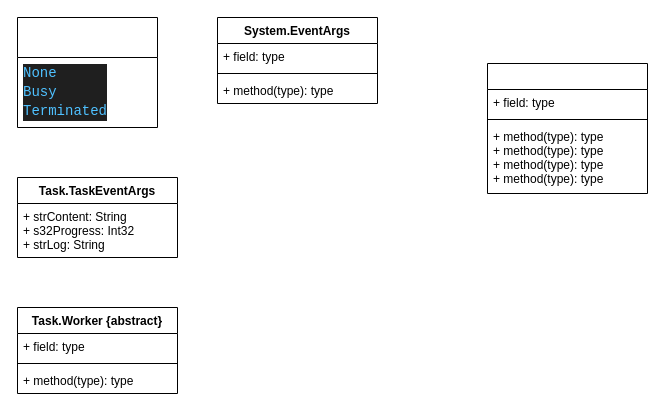
Image size: 665x414. Some labels were removed from this diagram. The box of each missing label's shape, as (x1, y1, x2, y2) in pixels:
<<enumeration>> Task.enuStatus: (16, 16, 158, 128)
Classname: (486, 62, 648, 194)
